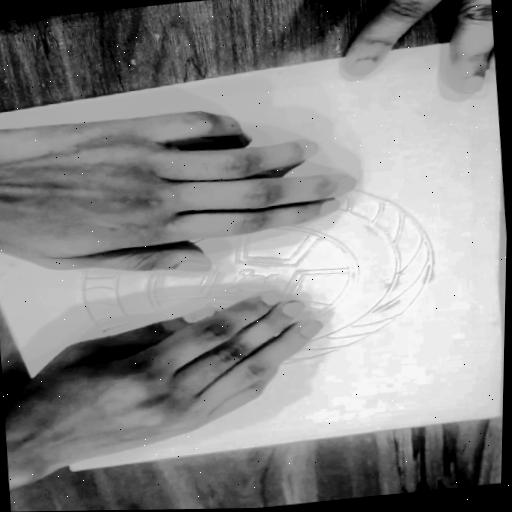bottom_right: (67, 467, 81, 474)
tire: (33, 150, 470, 409)
top_right: (490, 412, 503, 422)
